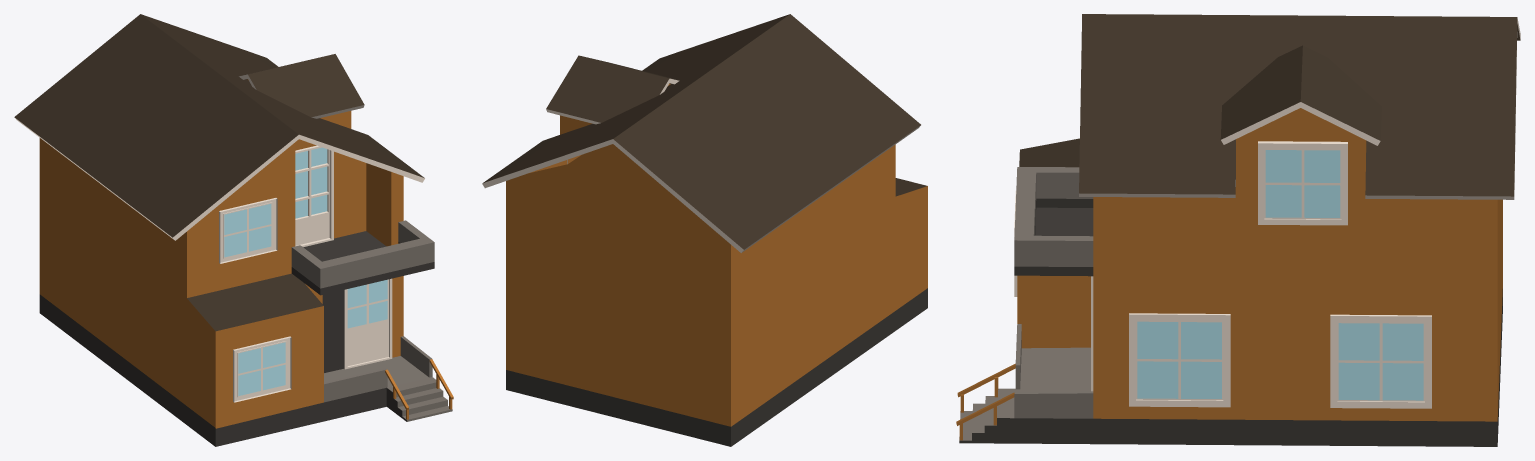
Rendered from small1.glb.
3 views of the same model, side by side, from view 1: azimuth 30°, elevation 25°; view 2: azimuth 150°, elevation 25°; view 3: azimuth 270°, elevation 25° (orthographic). The views are drawn at different scales.
Parts seen in each view (by area): view 1: Residential 9.005; view 2: Residential 9.005; view 3: Residential 9.005.
Part boxes in pixels (x1,y1,x2,y2): Residential 9.005: [14, 14, 453, 446]; Residential 9.005: [482, 14, 927, 446]; Residential 9.005: [956, 14, 1520, 446].
Size of the model in its own units: 8.12 by 8.2 by 11.68.
Materials: 1 (1 with a texture image).
